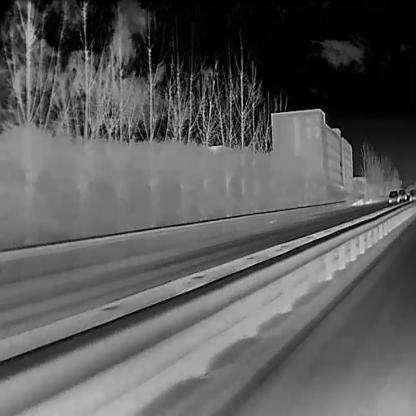car: (387, 190, 399, 202), (397, 188, 406, 200), (408, 188, 415, 200)
